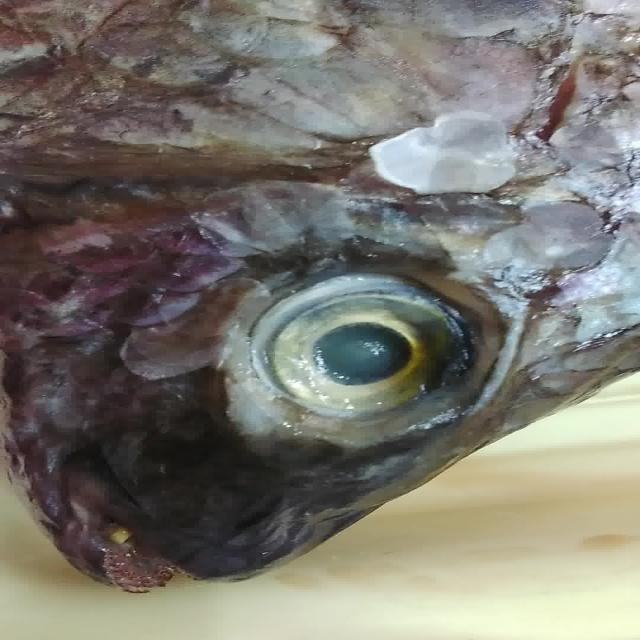Non-Fresh: (247, 247, 492, 453)
